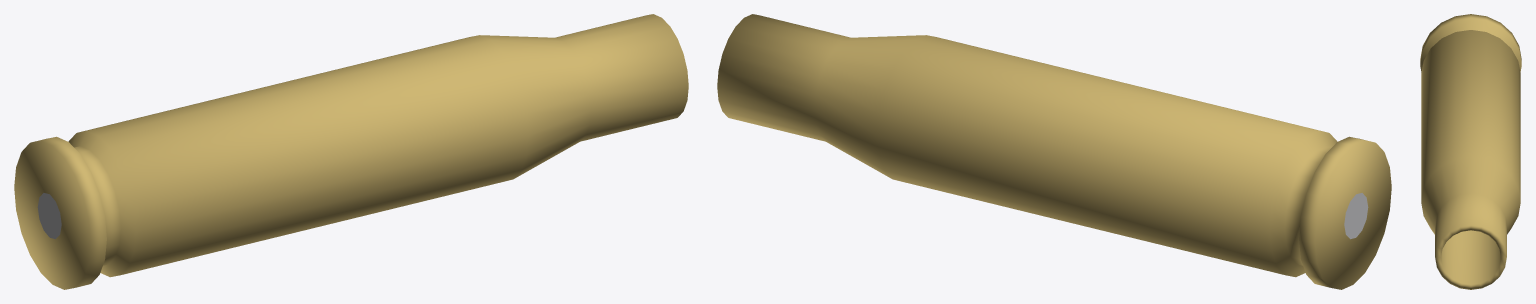
The model's file is SM_FX_CasingRifle.glb.
3 renders of one model, left to right at view 1: azimuth 30°, elevation 25°; view 2: azimuth 150°, elevation 25°; view 3: azimuth 270°, elevation 25°, orthographic. The views are drawn at different scales.
Visible parts, largest first — view 1: SM_FX_CasingRifle; view 2: SM_FX_CasingRifle; view 3: SM_FX_CasingRifle.
Part boxes in pixels (box(x1,y1,x2,y2)): SM_FX_CasingRifle: box(14, 14, 688, 289); SM_FX_CasingRifle: box(717, 14, 1391, 289); SM_FX_CasingRifle: box(1420, 14, 1521, 289).
Bounding box in the file's own units: 0.0452 × 0.00979 × 0.00979.
